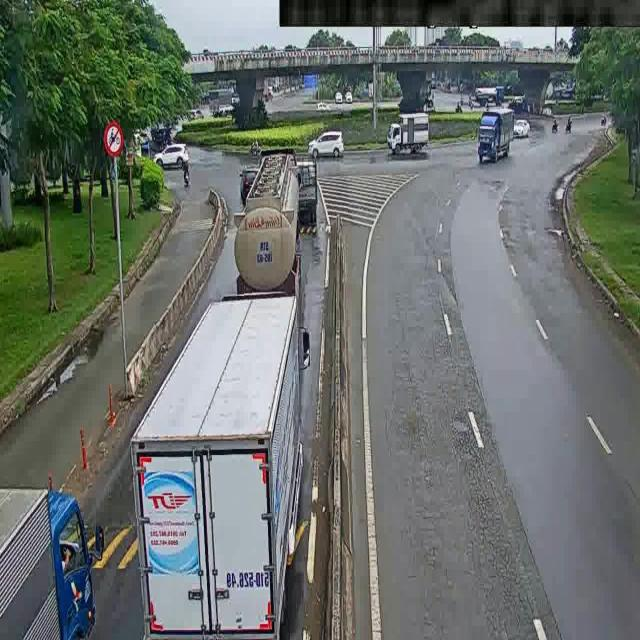car: (308, 132, 352, 163), (151, 142, 193, 174), (508, 114, 526, 133), (313, 98, 325, 111)
motorbike: (558, 113, 574, 141), (541, 114, 557, 132), (250, 139, 262, 152)
truck: (128, 274, 343, 640), (1, 467, 112, 632), (228, 143, 323, 274), (375, 103, 430, 170), (468, 96, 510, 171), (471, 82, 511, 103)
